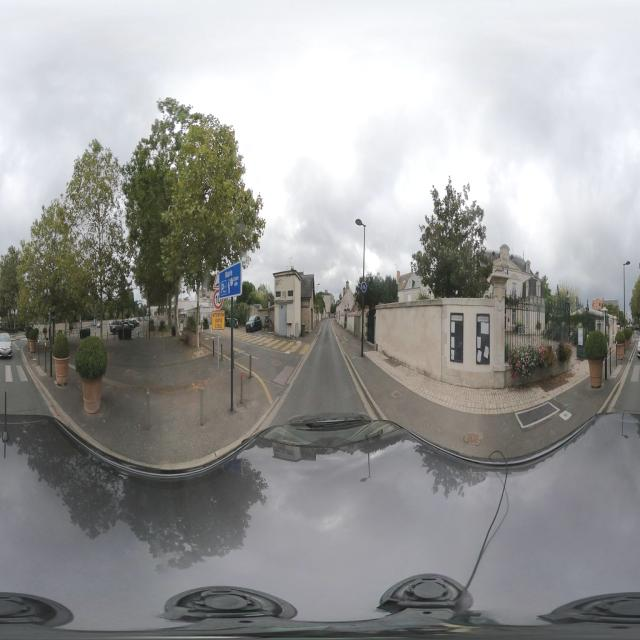car: (245, 314, 263, 333), (0, 331, 12, 359)
